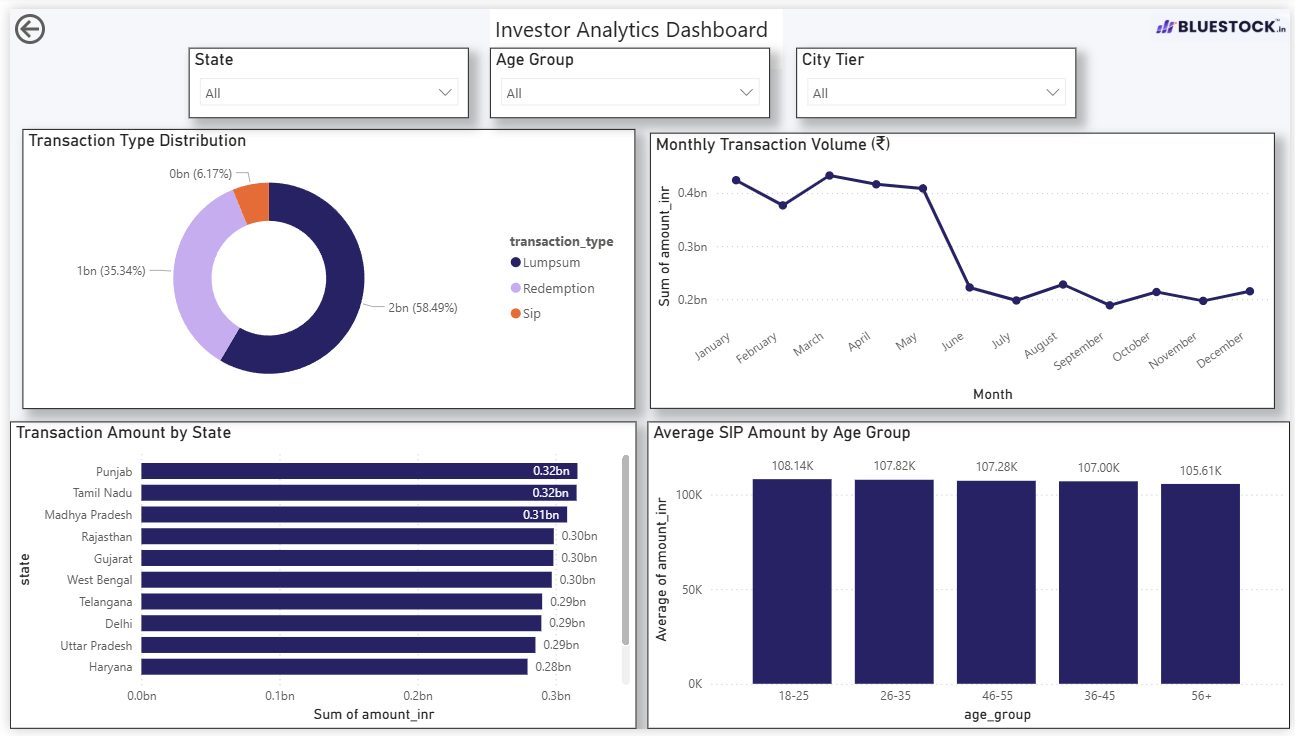

Layout of this report page (visuals, bound fields, positions):
{"tool":"powerbi","page":{"name":"Investor Analytics","canvas":[1280,720],"ordinal":2},"visuals":[{"type":"barChart","title":"Transaction Amount by State","fields":{"Category":["clean_transactions.state"],"Y":["Sum(clean_transactions.amount_inr)"]},"box":[0,412.5,626.2,307.5],"z":0},{"type":"donutChart","title":"Transaction Type Distribution","fields":{"Category":["clean_transactions.transaction_type"],"Y":["Sum(clean_transactions.amount_inr)"]},"box":[12.5,120,612.5,280],"z":1000},{"type":"clusteredColumnChart","title":"Average SIP Amount by Age Group","fields":{"Y":["Avg(clean_transactions.amount_inr)"],"Category":["clean_transactions.age_group"]},"box":[637.5,412.5,642.5,307.5],"z":2000},{"type":"lineChart","title":"Monthly Transaction Volume (₹)","fields":{"Category":["clean_transactions.transaction_date.Variation.Date Hierarchy.Month"],"Y":["Sum(clean_transactions.amount_inr)"]},"box":[640,123.8,625,276.2],"z":3000},{"type":"slicer","title":"City Tier","fields":{"Values":["clean_transactions.city_tier"]},"box":[786.2,38.8,280,70],"z":4000},{"type":"textbox","box":[480,0,292.5,60],"z":5000},{"type":"slicer","title":"Age Group","fields":{"Values":["clean_transactions.age_group"]},"box":[480,38.8,280,70],"z":6000},{"type":"slicer","title":"State","fields":{"Values":["clean_transactions.state"]},"box":[178.8,38.8,280,70],"z":7000},{"type":"actionButton","box":[0,0,100,40],"z":8000},{"type":"image","box":[1141.1,0,138.9,38.9],"z":9000}]}

Visuals, with their boxes in screenshot pixels (x1, y1, x2, y2), scaled from the page's 1280x720 canvas onto the 1295x736 screenshot:
"Transaction Amount by State" barChart: 0,422,634,735
"Transaction Type Distribution" donutChart: 13,123,632,409
"Average SIP Amount by Age Group" clusteredColumnChart: 645,422,1294,735
"Monthly Transaction Volume (₹)" lineChart: 648,127,1280,409
"City Tier" slicer: 795,40,1079,111
textbox: 486,0,782,61
"Age Group" slicer: 486,40,769,111
"State" slicer: 181,40,464,111
actionButton: 0,0,101,41
image: 1154,0,1294,40
